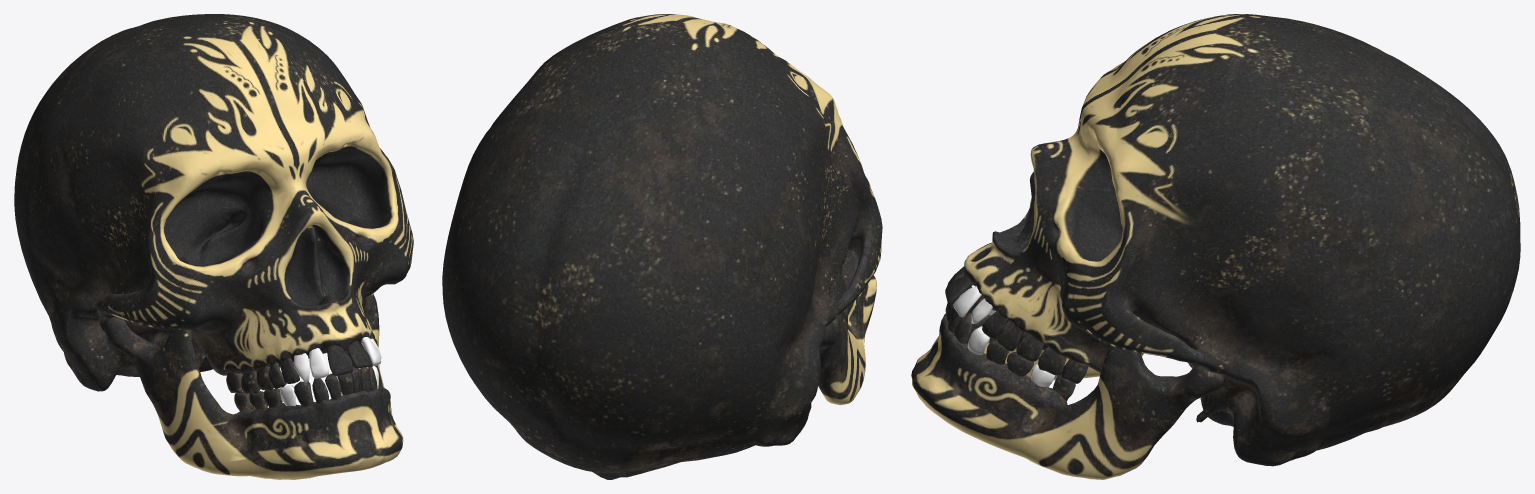
The model's file is skull_simple.glb.
The picture shows the model from 3 angles, left to right: view 1: azimuth 30°, elevation 25°; view 2: azimuth 150°, elevation 25°; view 3: azimuth 270°, elevation 25°; orthographic projection. The views are drawn at different scales.
Parts seen in each view (by area): view 1: defaultMaterial (×2); view 2: defaultMaterial; view 3: defaultMaterial (×2).
Boxes of the visible parts, bbox=[...] form: defaultMaterial (×2): bbox=[14, 14, 413, 479]; defaultMaterial: bbox=[442, 14, 882, 479]; defaultMaterial (×2): bbox=[911, 14, 1520, 479].
Size of the model in its own units: 1.22 by 1.46 by 2.
2 materials, 1 textured.
